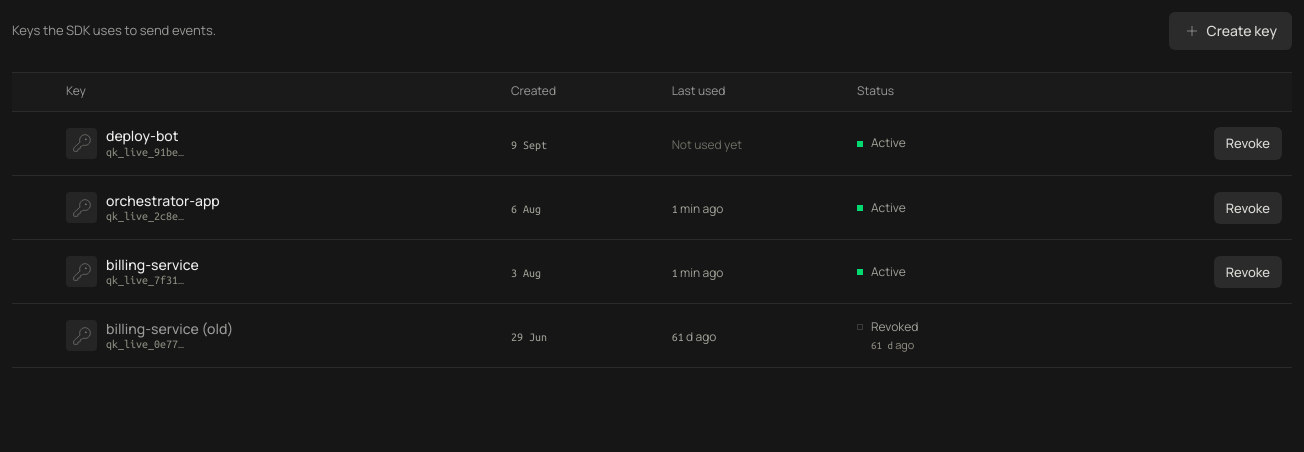
Scenario: KeysPanel › shows why the server refused a revoke and offers Revoke again
Click the button with aria-label "Revoke key deploy-bot". click: (1248, 143)
box: left=1214, top=127, right=1282, bottom=160
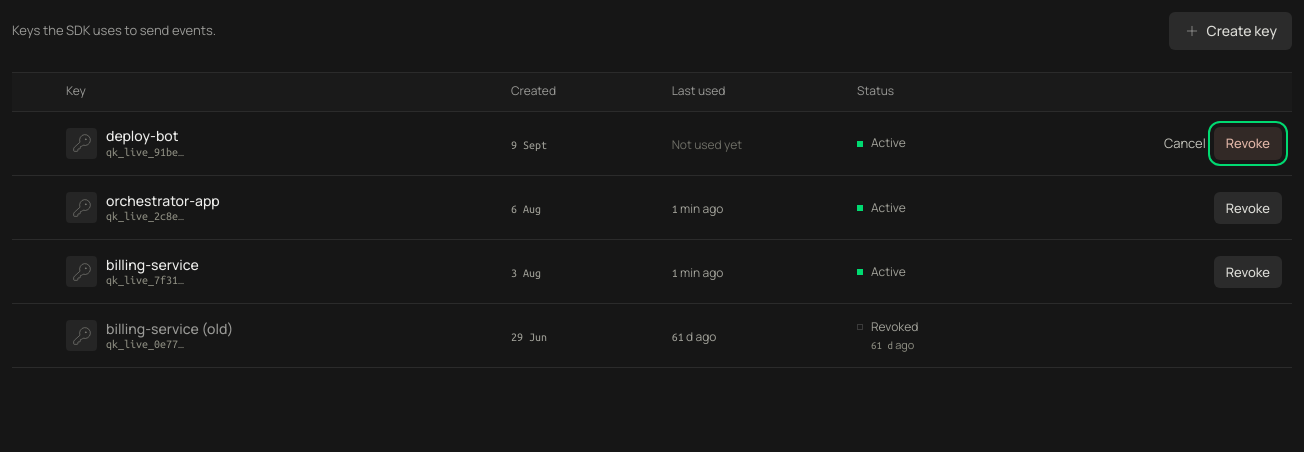
Click the button "Revoke" in the row of "deploy-bot". click: (1248, 143)
box: left=1214, top=127, right=1282, bottom=160
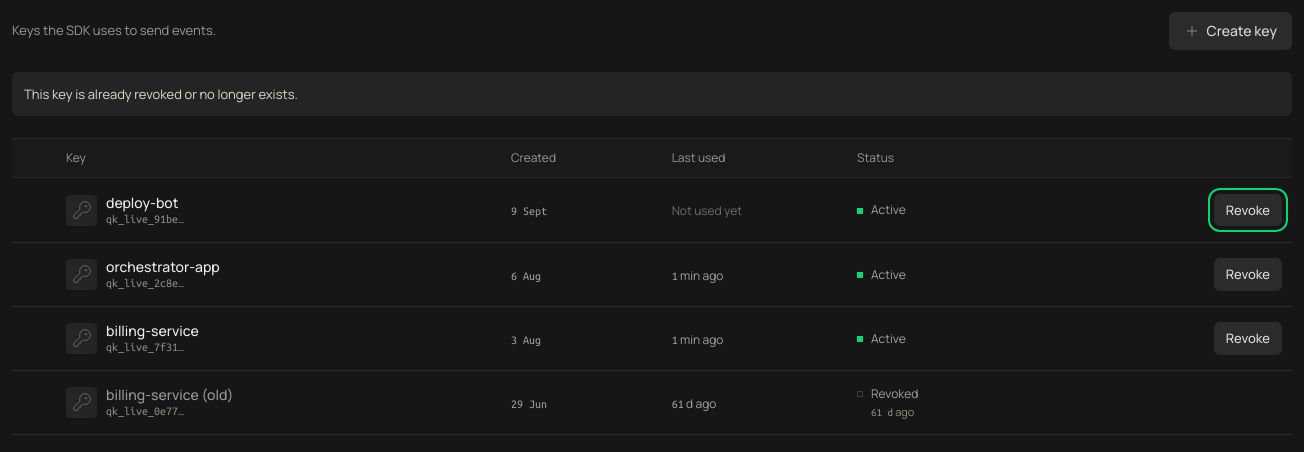
Expected: the message reads "This key is already revoked or no longer exists.", left=24, top=85, right=298, bottom=103
